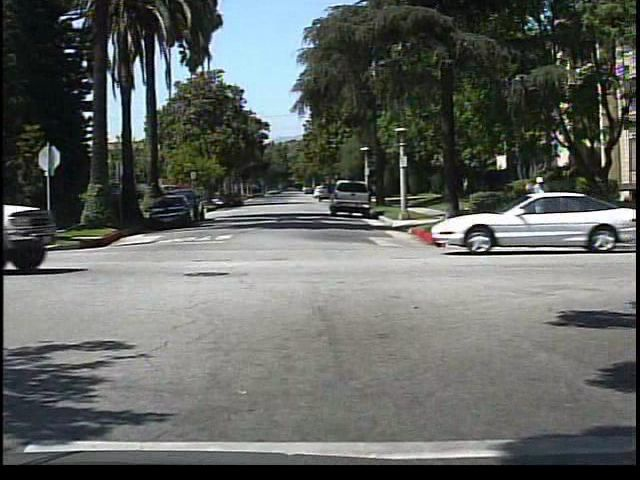person: (526, 172, 555, 231)
